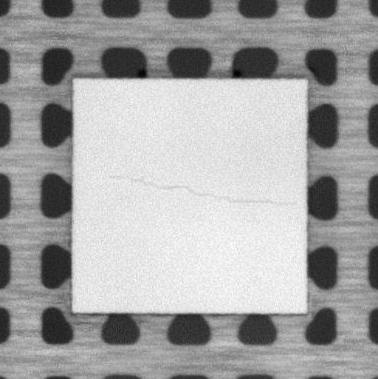DIE_CRACK: (111, 173, 297, 208)
